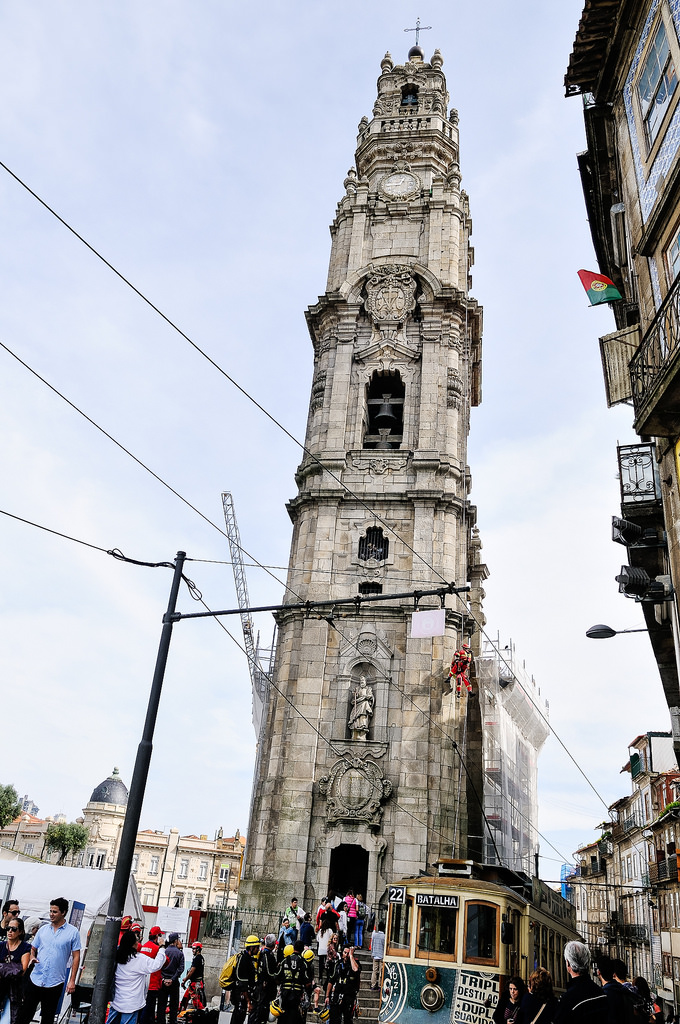clerigos: (241, 16, 486, 950)
